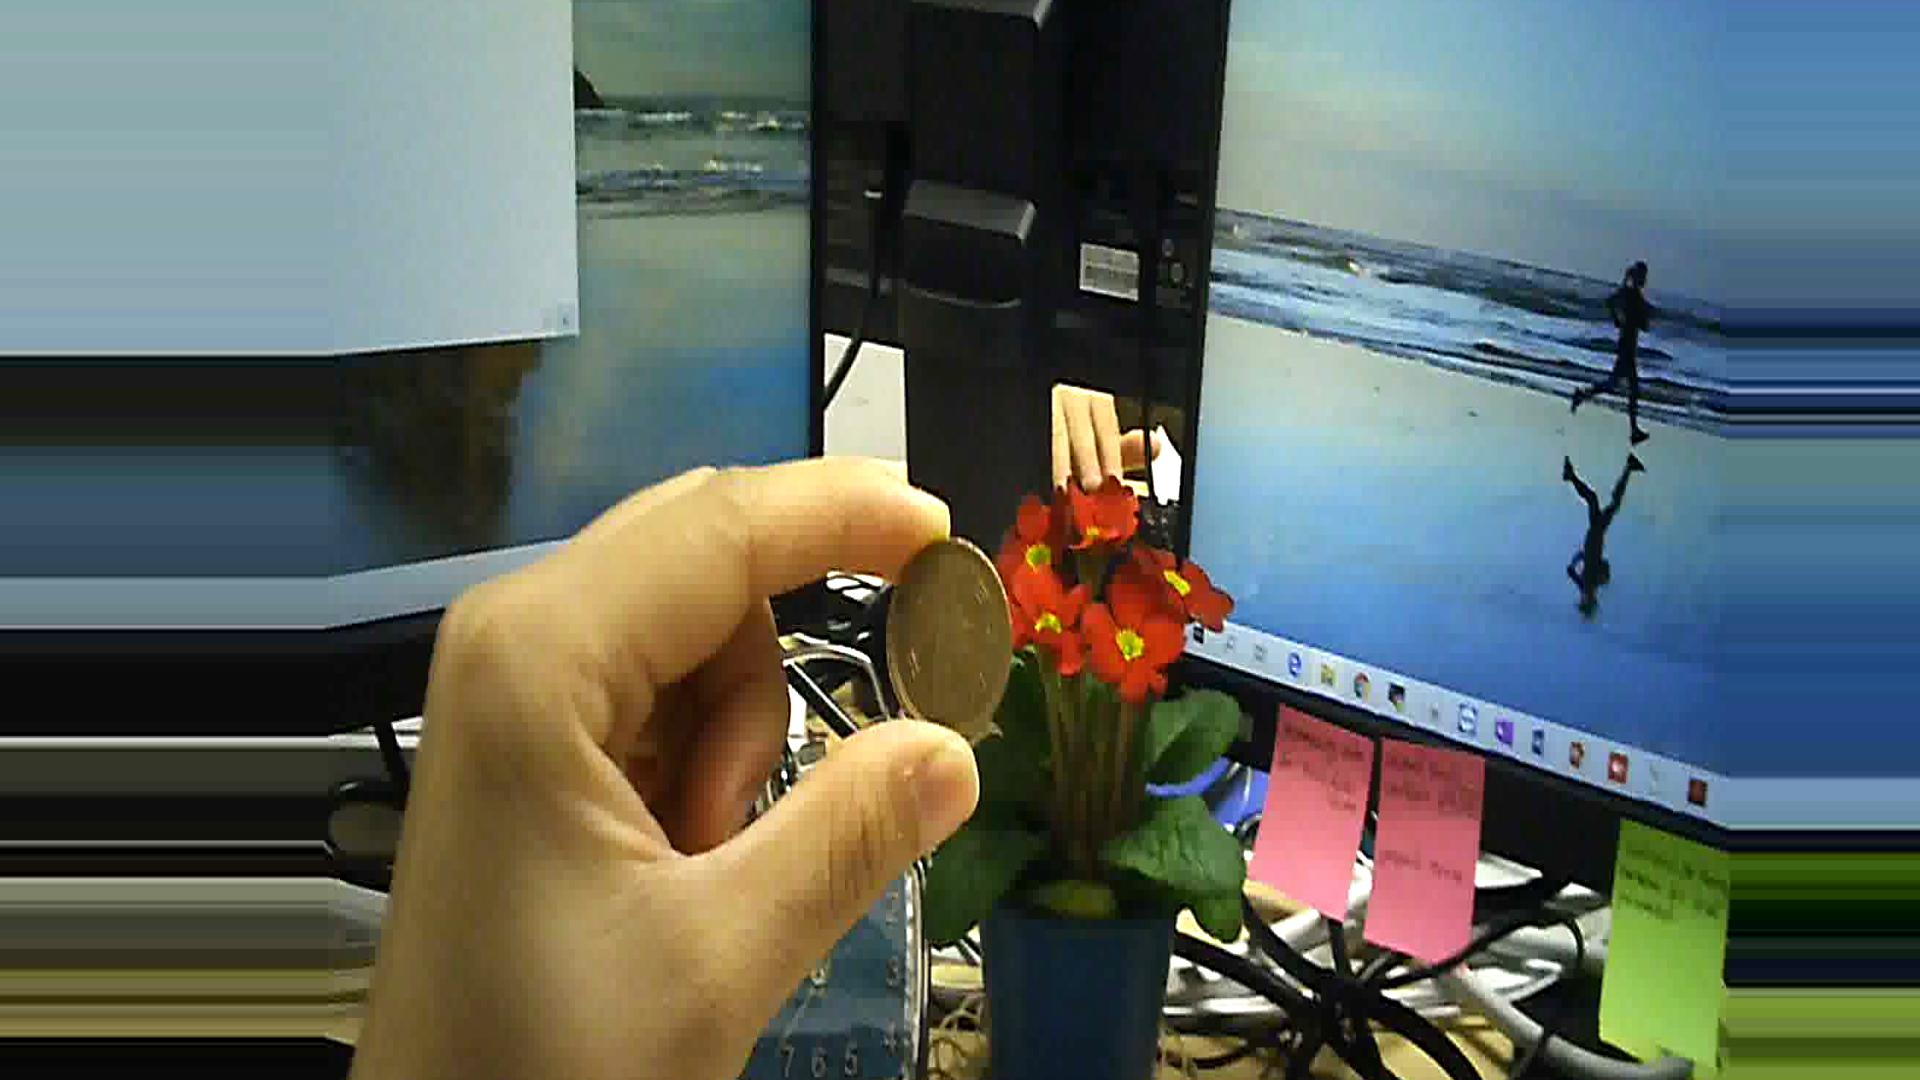10 Yen: (874, 530, 1033, 740)
